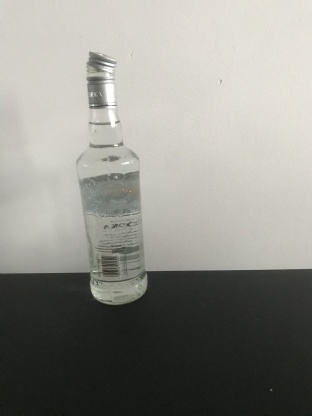nakretka: (84, 47, 119, 109)
